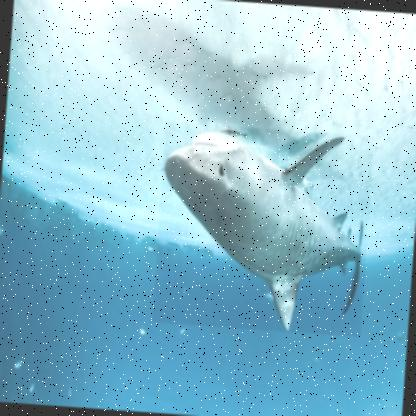tiger-shark: (152, 121, 376, 337)
